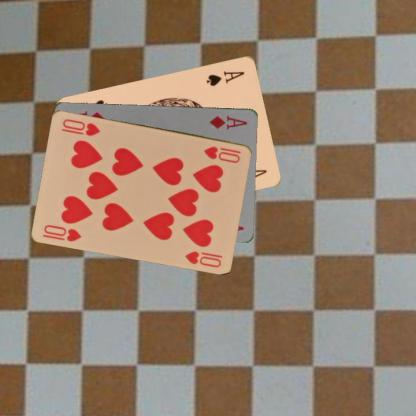10h: (42, 222, 83, 243), (202, 143, 242, 164)
Ad: (207, 112, 249, 131)
As: (204, 68, 246, 87)
